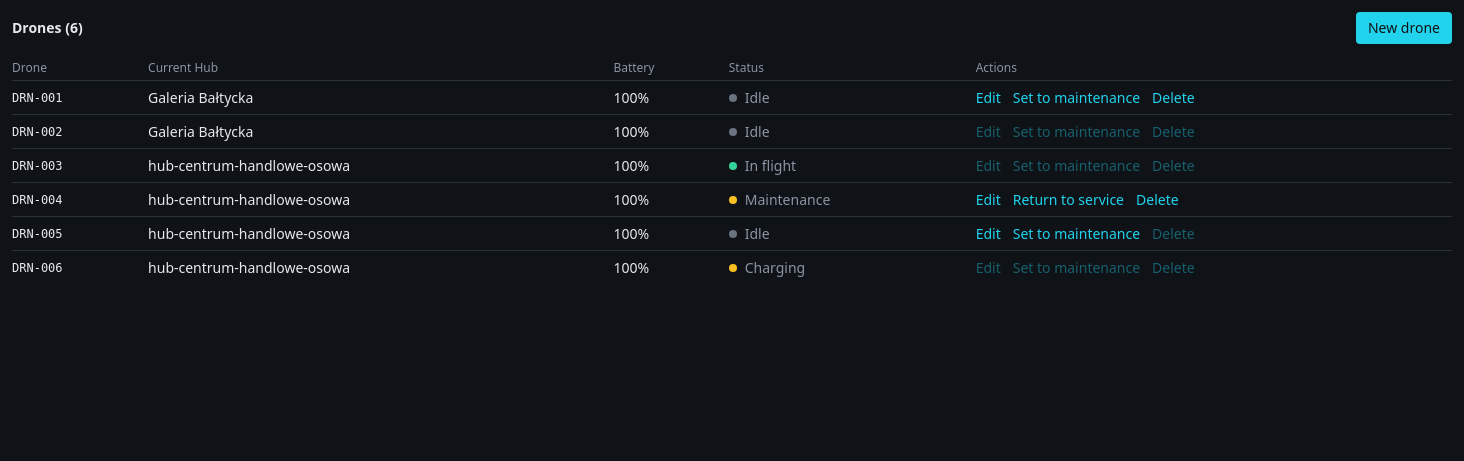
Test case: DronesManager › only allows changing the Hub of an idle drone
Click the button with aria-label "Edit drone DRN-004".
click(988, 200)  # box [976,190,1001,210]
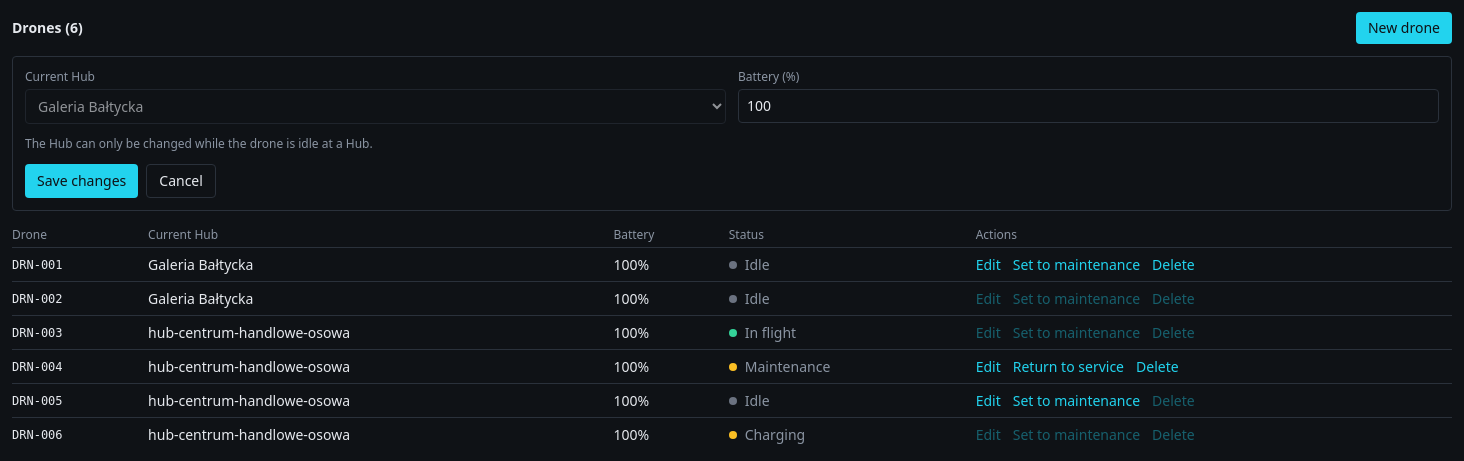
expect the dropdown labelled "Current Hub" is disabled: met, box [25,89,726,124]
